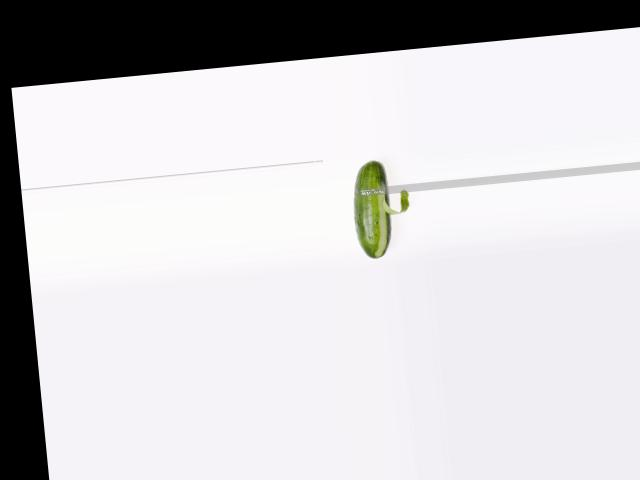cucumber: (349, 158, 396, 260)
